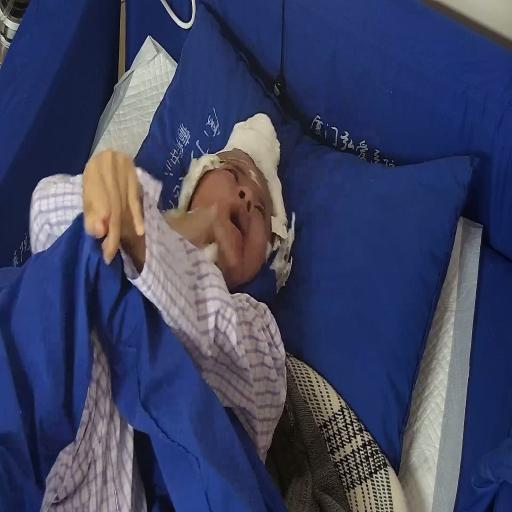Seizure: (192, 135, 288, 282)
